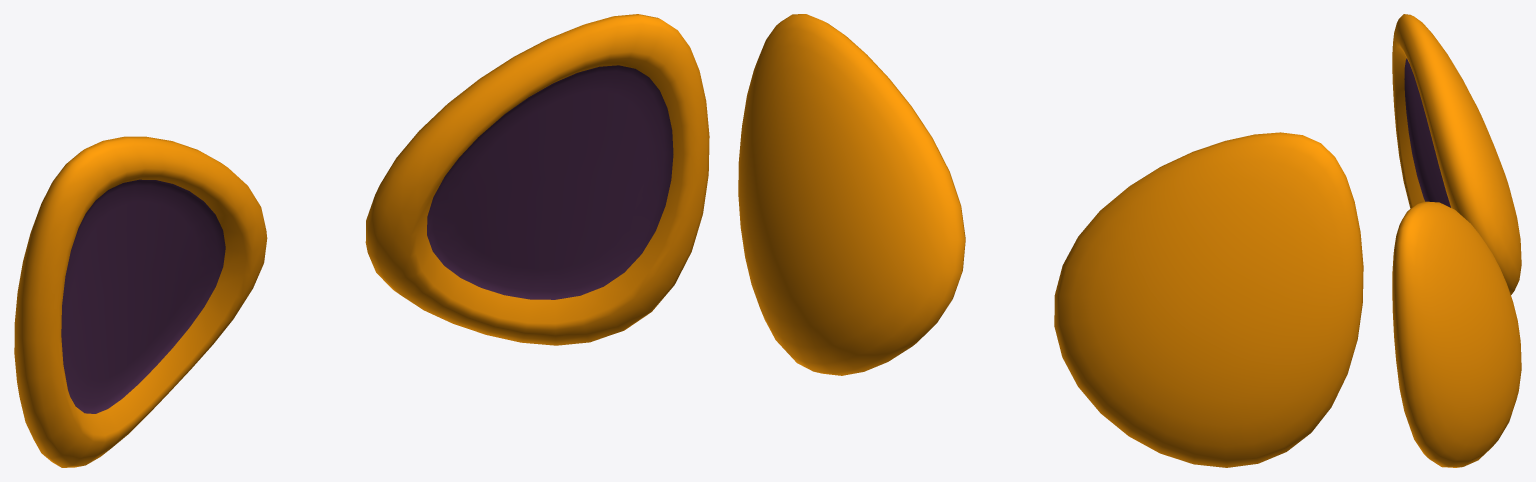
Rendered from cat.glb.
3 views of the same model, side by side, from view 1: azimuth 30°, elevation 25°; view 2: azimuth 150°, elevation 25°; view 3: azimuth 270°, elevation 25° (orthographic). The views are drawn at different scales.
Visible parts, largest first — view 1: Sphere002, Sphere001; view 2: Sphere001, Sphere002; view 3: Sphere002, Sphere001.
Part boxes in pixels (bbox=[...]): Sphere002: bbox=[365, 14, 709, 345]; Sphere001: bbox=[14, 136, 267, 467]; Sphere001: bbox=[1054, 132, 1363, 467]; Sphere002: bbox=[738, 14, 965, 375]; Sphere002: bbox=[1392, 201, 1521, 467]; Sphere001: bbox=[1392, 14, 1521, 294].
Bounding box in the file's own units: 1.61 × 0.7827 × 0.3523.
